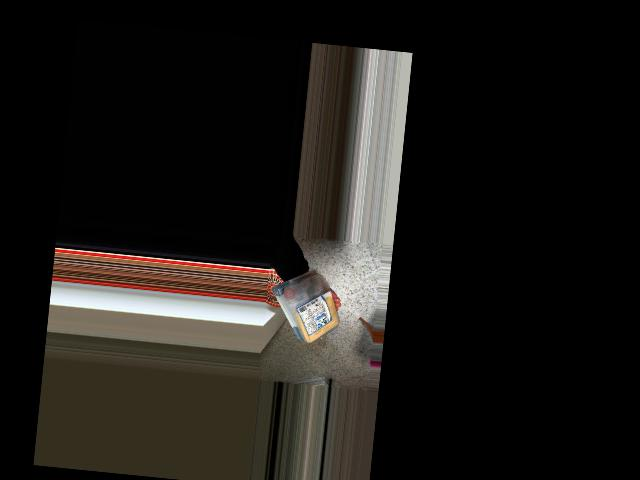cheese: (277, 273, 342, 344)
